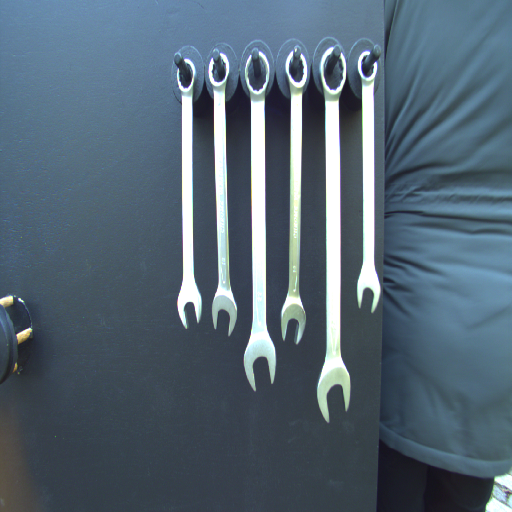bottom: (316, 359, 353, 423), (242, 336, 278, 394), (279, 294, 309, 348), (174, 281, 205, 331), (355, 262, 382, 314), (210, 288, 238, 337)
top: (317, 44, 347, 104), (243, 48, 272, 98), (283, 46, 309, 94), (207, 50, 232, 94), (174, 56, 198, 99), (355, 48, 378, 83)
